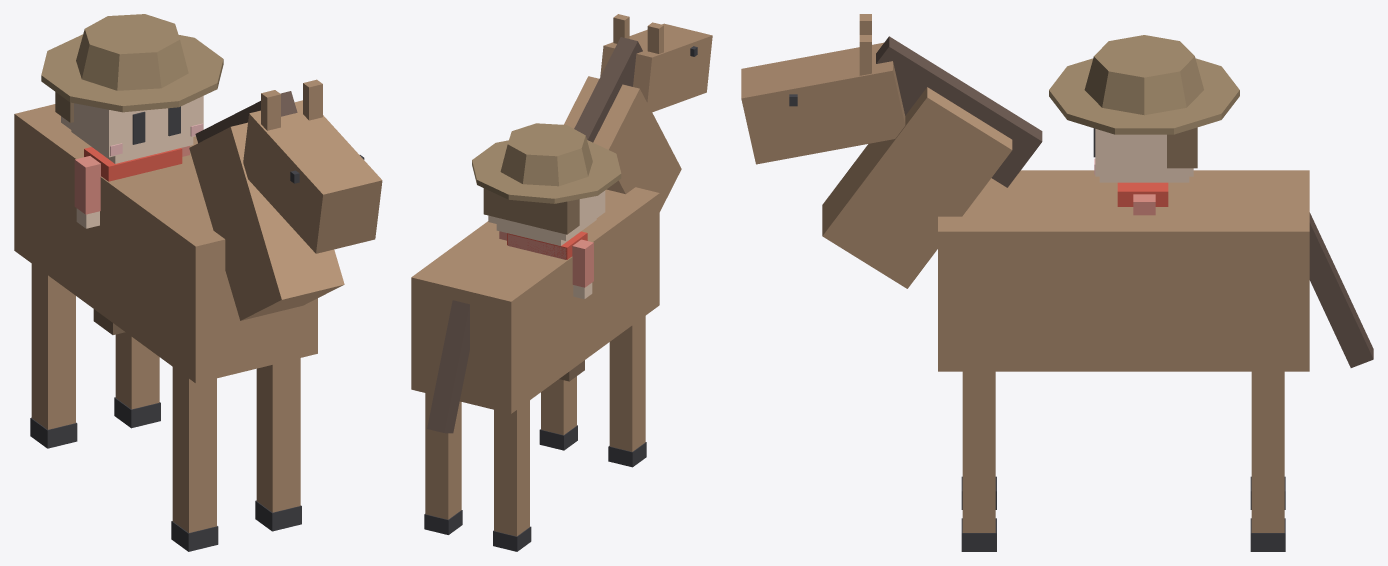
Rendered from rider.glb.
3 views of the same model, side by side, from view 1: azimuth 30°, elevation 25°; view 2: azimuth 150°, elevation 25°; view 3: azimuth 270°, elevation 25° (orthographic). The views are drawn at different scales.
Parts seen in each view (by area): view 1: rider; view 2: rider; view 3: rider.
Boxes of the visible parts, x1=… form: rider: x1=14, y1=14, x2=382, y2=551; rider: x1=411, y1=14, x2=712, y2=551; rider: x1=741, y1=14, x2=1373, y2=551.
Bounding box in the file's own units: 0.9258 × 2.65 × 3.06.
